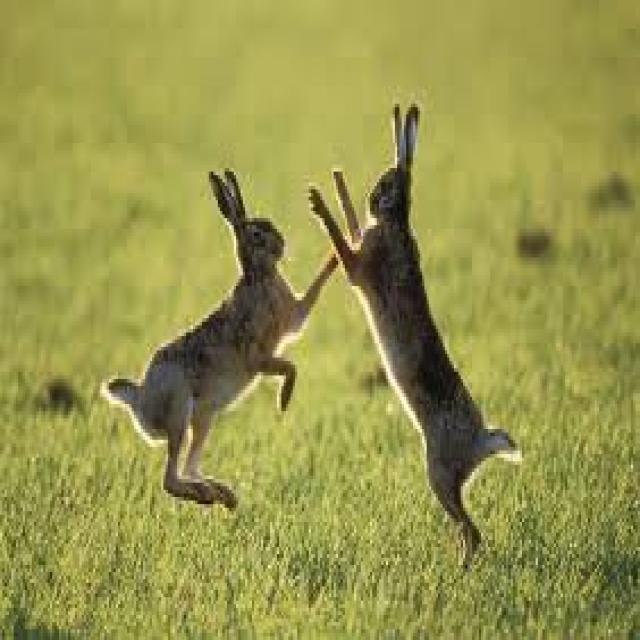Hare: (310, 70, 526, 586), (97, 161, 341, 521)
